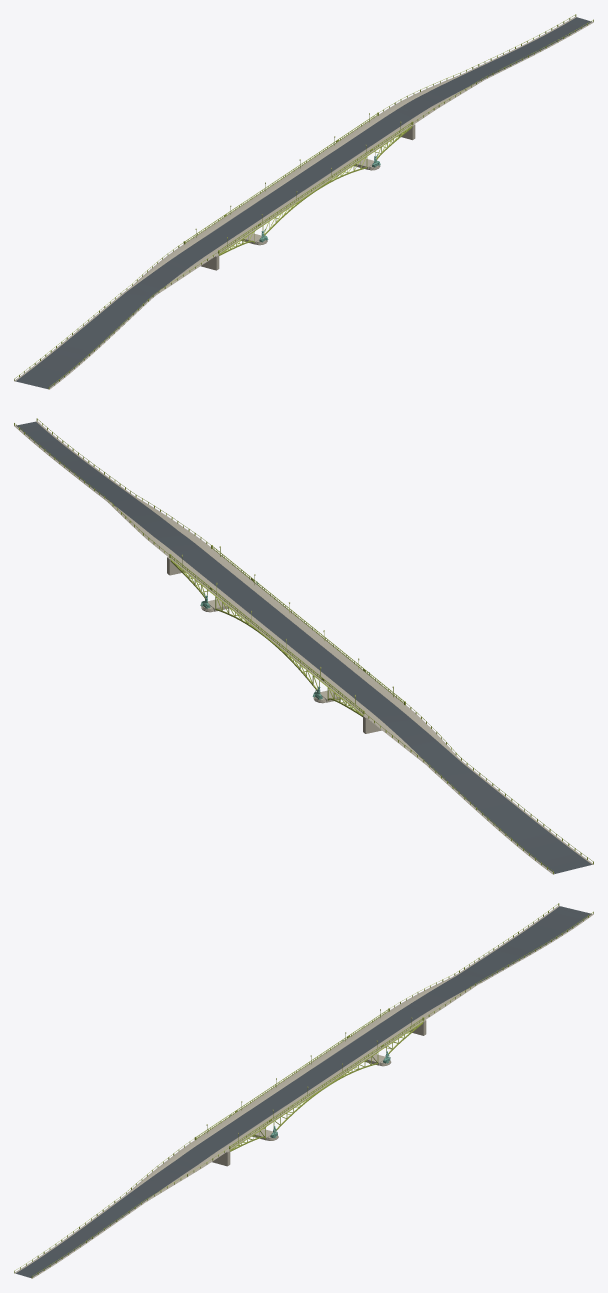
File: pont-mirabeau-far.glb
3 renders of one model, top to bottom at view 1: azimuth 90°, elevation 25°; view 2: azimuth 150°, elevation 25°; view 3: azimuth 270°, elevation 25°, orthographic. The views are drawn at different scales.
Parts seen in each view (by area): view 1: pont-mirabeau-0-asphalt, pont-mirabeau-0-walkway, pont-mirabeau-0-steel, pont-mirabeau-0-stone; view 2: pont-mirabeau-0-asphalt, pont-mirabeau-0-walkway, pont-mirabeau-0-steel, pont-mirabeau-0-stone; view 3: pont-mirabeau-0-asphalt, pont-mirabeau-0-walkway, pont-mirabeau-0-steel, pont-mirabeau-0-stone.
Part boxes in pixels (box(x1,y1,x2,y2)): pont-mirabeau-0-asphalt: box(16, 17, 591, 388); pont-mirabeau-0-walkway: box(14, 16, 593, 389); pont-mirabeau-0-steel: box(14, 14, 593, 389); pont-mirabeau-0-stone: box(201, 124, 415, 270); pont-mirabeau-0-asphalt: box(16, 421, 591, 873); pont-mirabeau-0-walkway: box(14, 421, 593, 874); pont-mirabeau-0-steel: box(14, 418, 593, 874); pont-mirabeau-0-stone: box(167, 557, 381, 733); pont-mirabeau-0-asphalt: box(16, 906, 591, 1277); pont-mirabeau-0-walkway: box(14, 905, 593, 1278); pont-mirabeau-0-steel: box(14, 903, 593, 1278); pont-mirabeau-0-stone: box(212, 1020, 426, 1166).
Bounding box in the file's own units: 423 × 13.03 × 278.
